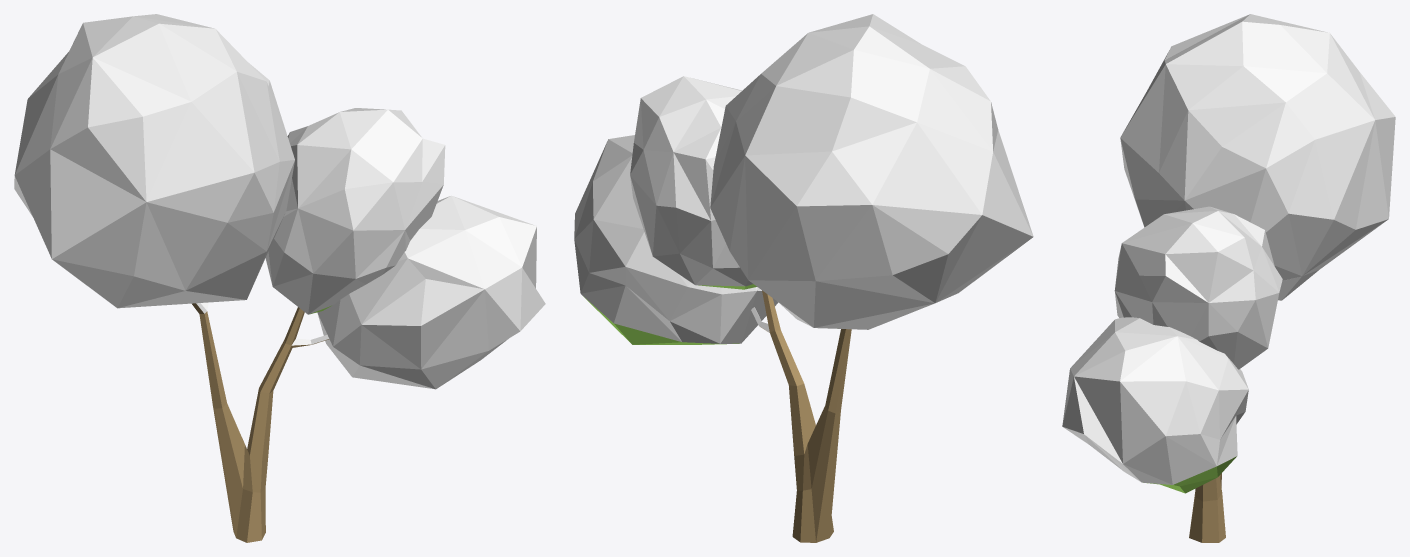
The model's file is Apple_Tree_m_Snow_BT_08.fbx.
3 renders of one model, left to right at view 1: azimuth 30°, elevation 25°; view 2: azimuth 150°, elevation 25°; view 3: azimuth 270°, elevation 25°, orthographic. The views are drawn at different scales.
Parts seen in each view (by area): view 1: Apple_Tree_m_Snow_BT_08; view 2: Apple_Tree_m_Snow_BT_08; view 3: Apple_Tree_m_Snow_BT_08.
Part boxes in pixels (x1,y1,x2,y2): Apple_Tree_m_Snow_BT_08: (14, 14, 545, 542); Apple_Tree_m_Snow_BT_08: (574, 14, 1033, 542); Apple_Tree_m_Snow_BT_08: (1062, 14, 1395, 542).
Size of the model in its own units: 787 by 856 by 536.
